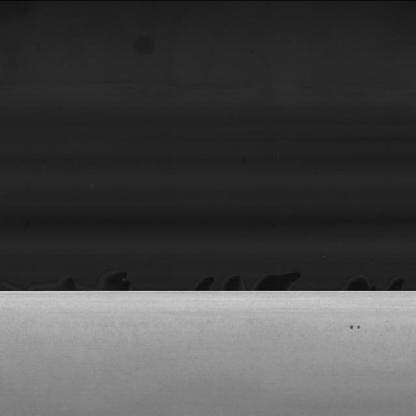oil_spot: (345, 318, 367, 333)
